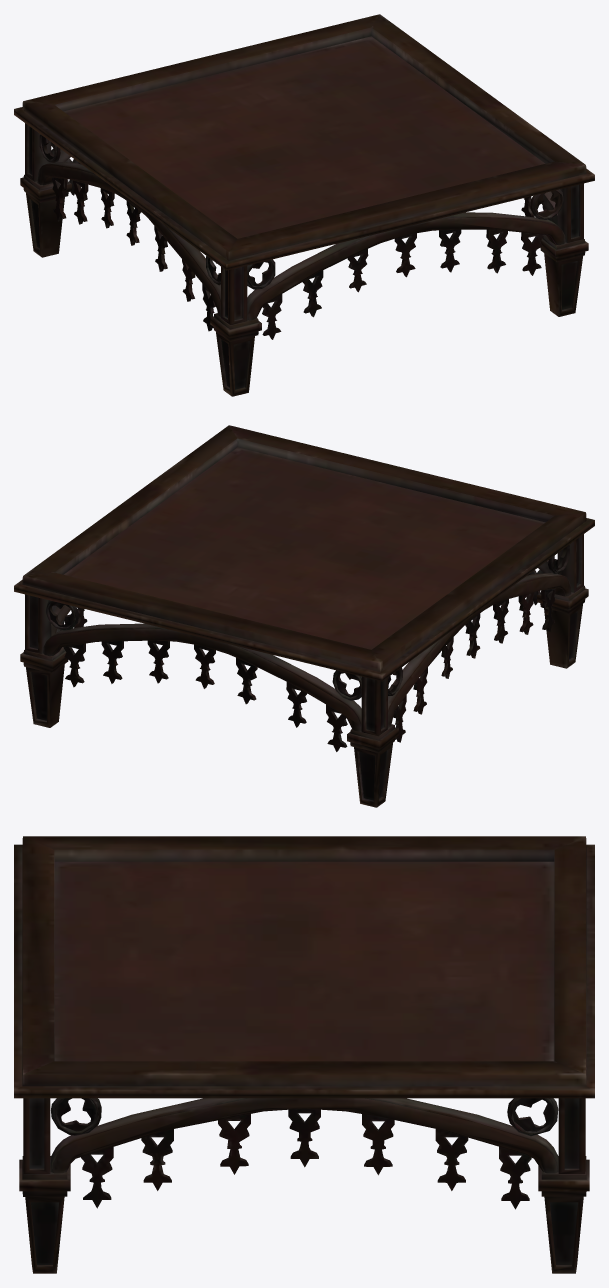
File: gothic_coffee_table.glb
3 renders of one model, top to bottom at view 1: azimuth 30°, elevation 25°; view 2: azimuth 150°, elevation 25°; view 3: azimuth 270°, elevation 25°, orthographic. The views are drawn at different scales.
Visible parts, largest first — view 1: gothic_coffee_table; view 2: gothic_coffee_table; view 3: gothic_coffee_table.
Boxes of the visible parts, bbox=[...] form: gothic_coffee_table: bbox=[14, 14, 594, 396]; gothic_coffee_table: bbox=[14, 425, 594, 807]; gothic_coffee_table: bbox=[14, 836, 594, 1273].
Size of the model in its own units: 1.44 by 0.5568 by 1.44.
Materials: 1 (1 with a texture image).
